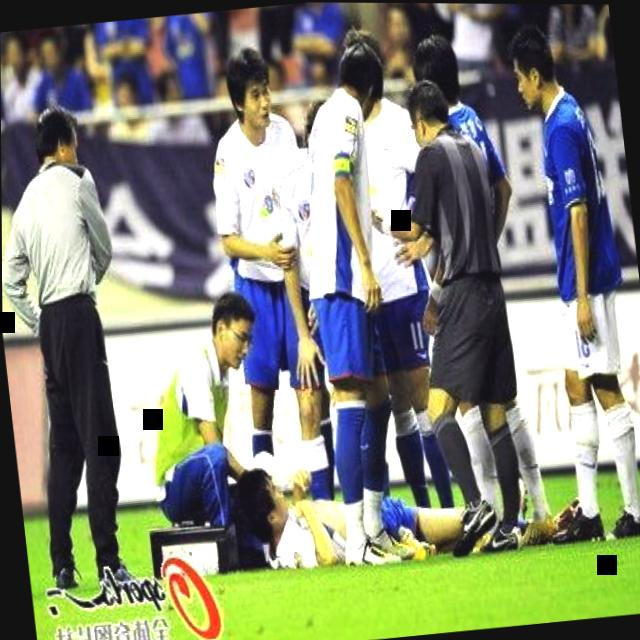Fall-Detected: (231, 425, 614, 587)
